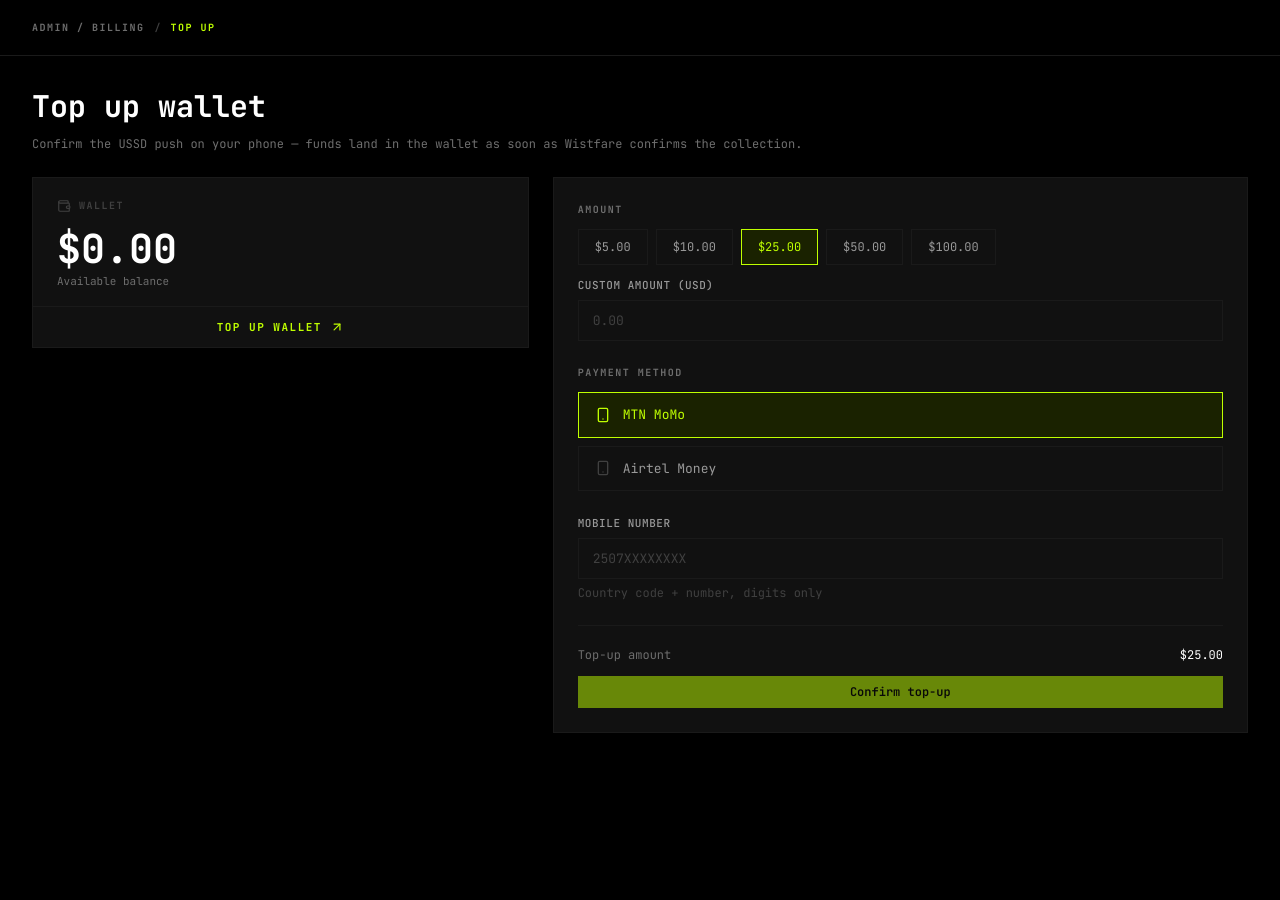
Test: AdminBillingTopupPage › surfaces the API error message when topup fails
In the field labelled "Mobile number": point(900, 558) [593,548,1208,568], type "250788000000"
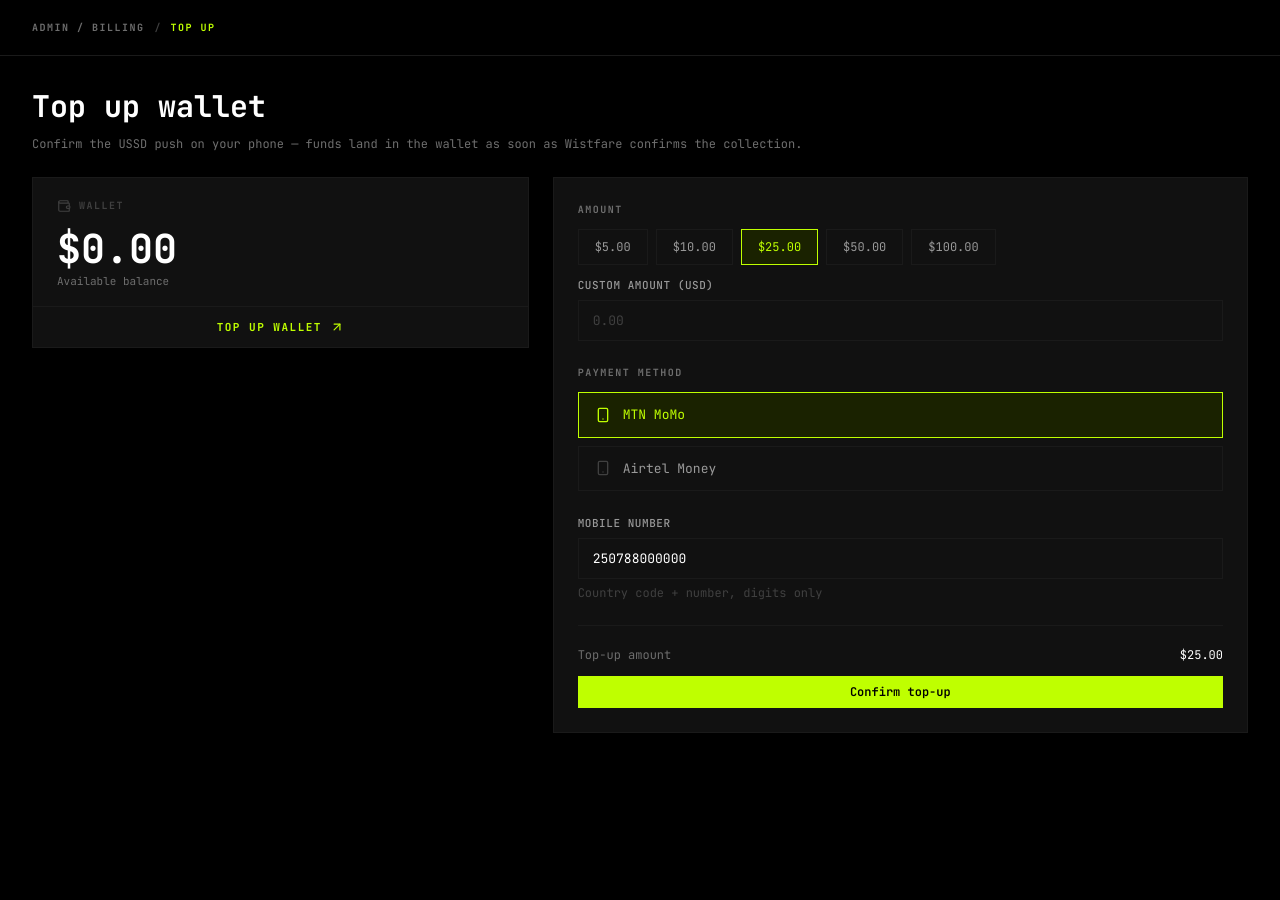
Click the button "Confirm top-up": point(900, 692) [578,676,1223,708]
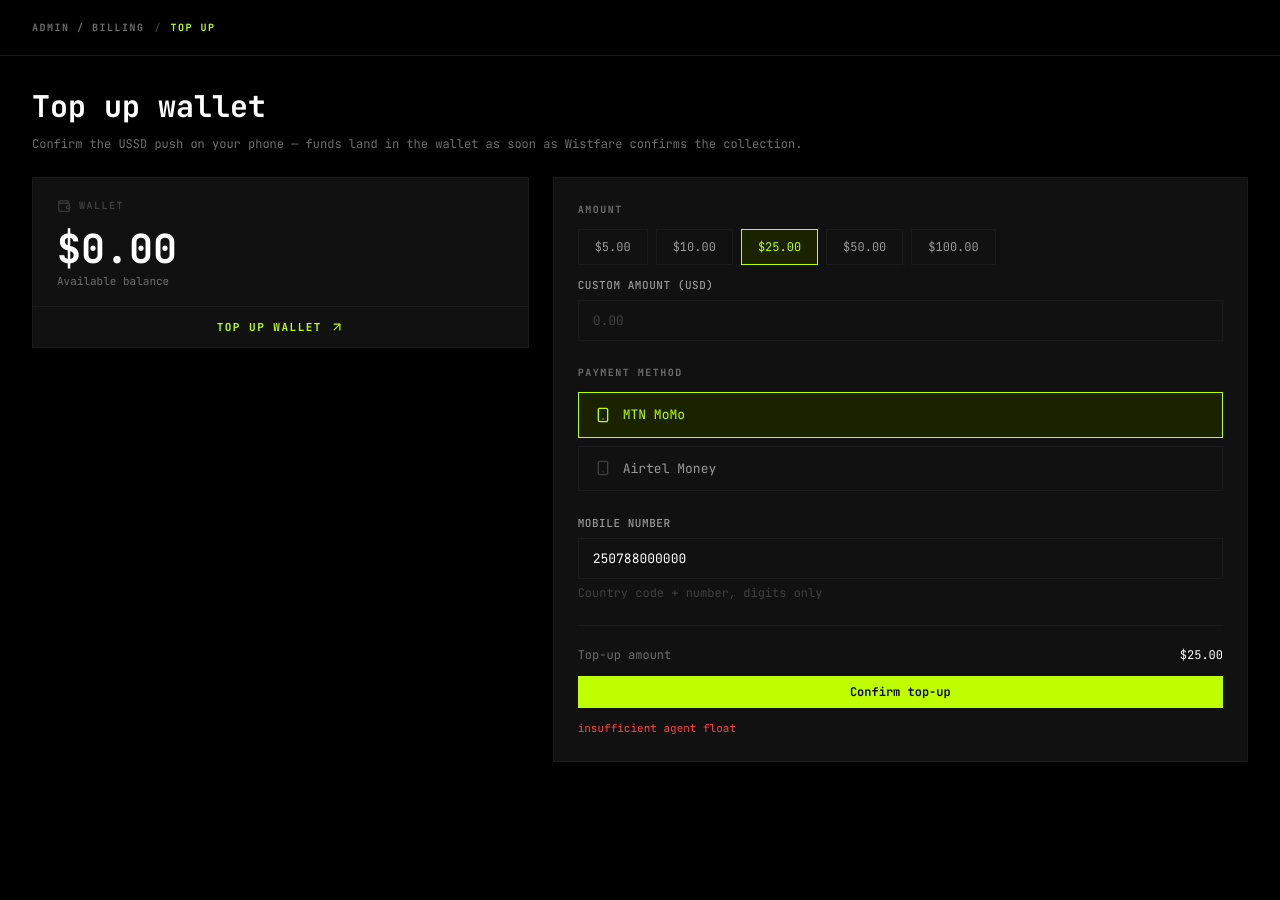
Expected: the text "insufficient agent float" is shown, [578,721,736,735]
